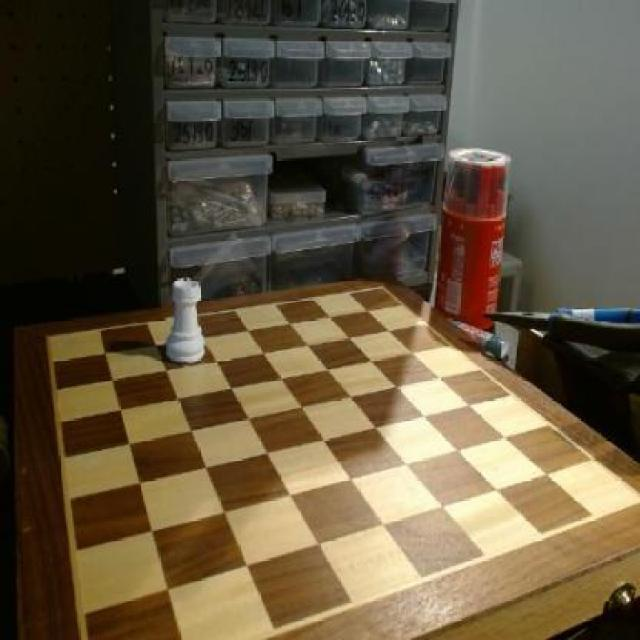white-queen: (168, 270, 212, 368)
